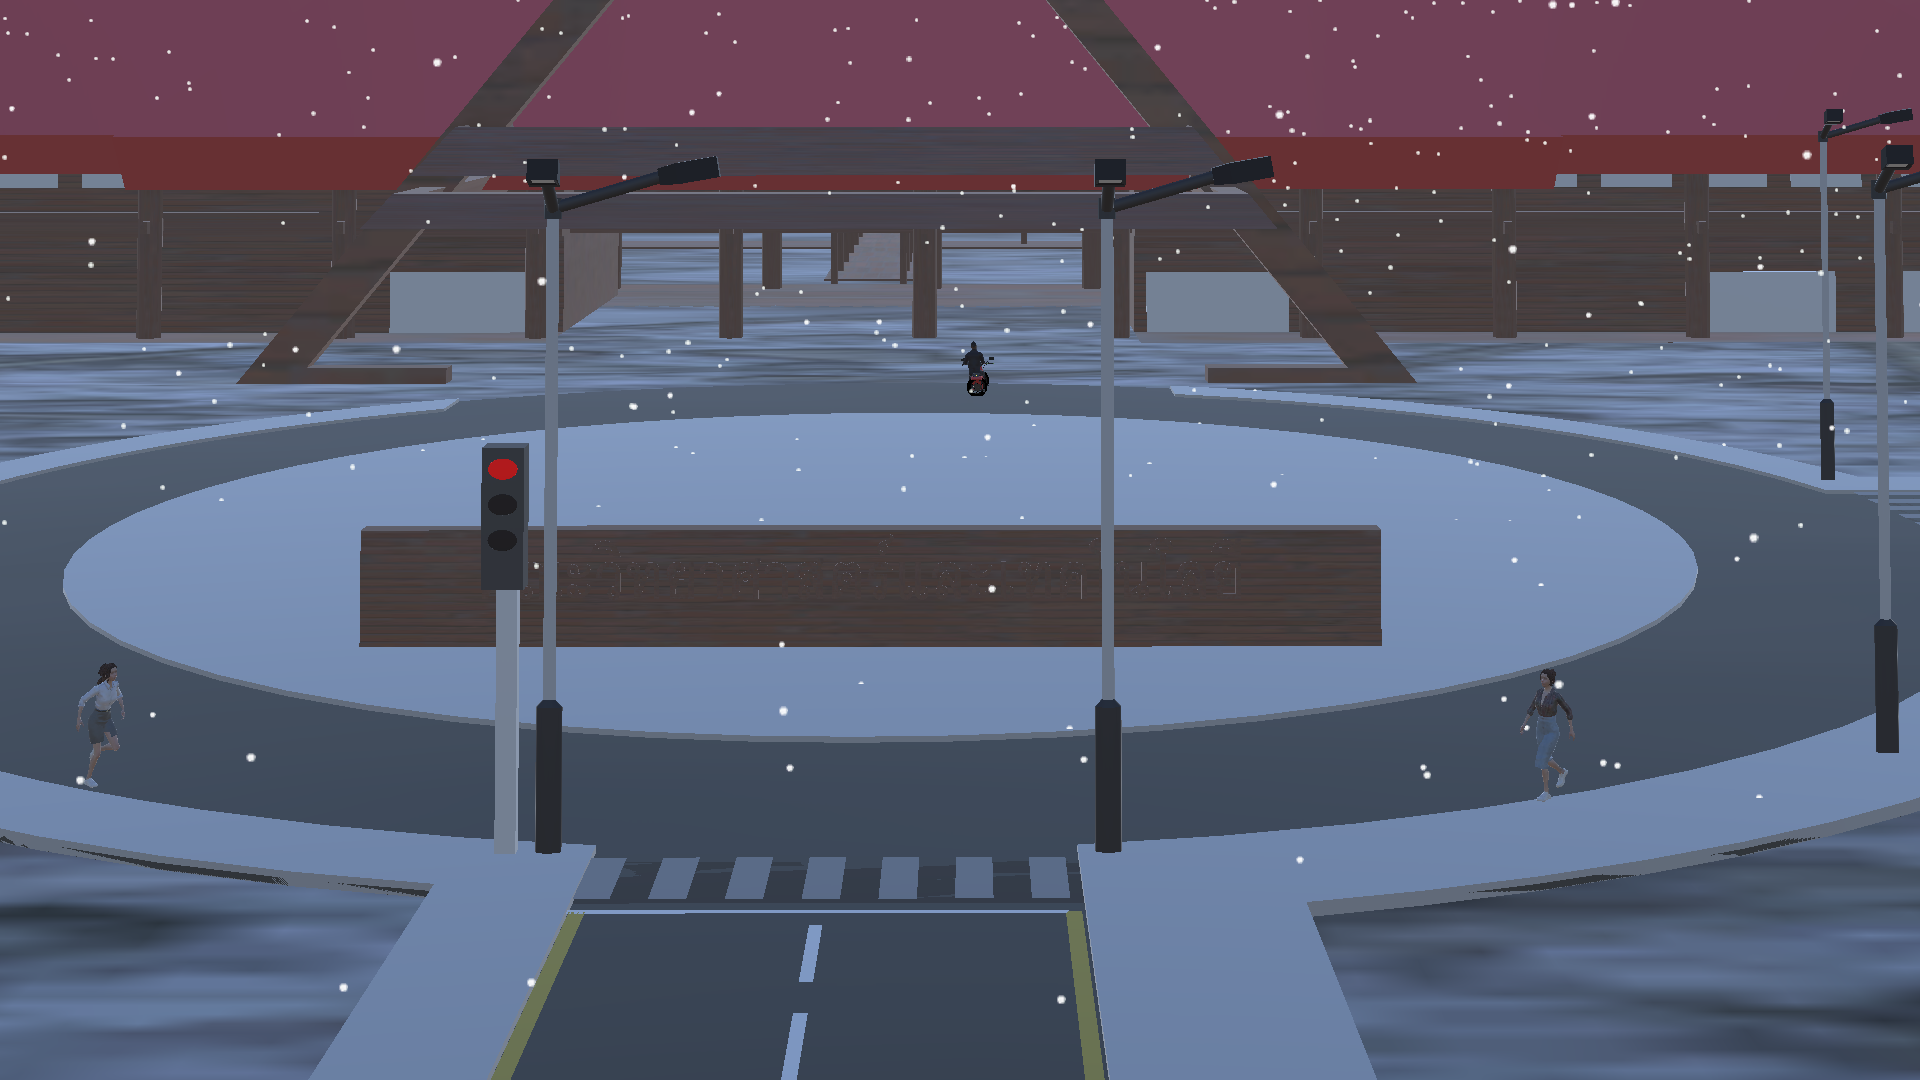pedestrian: (1517, 663, 1586, 807), (64, 662, 129, 791)
